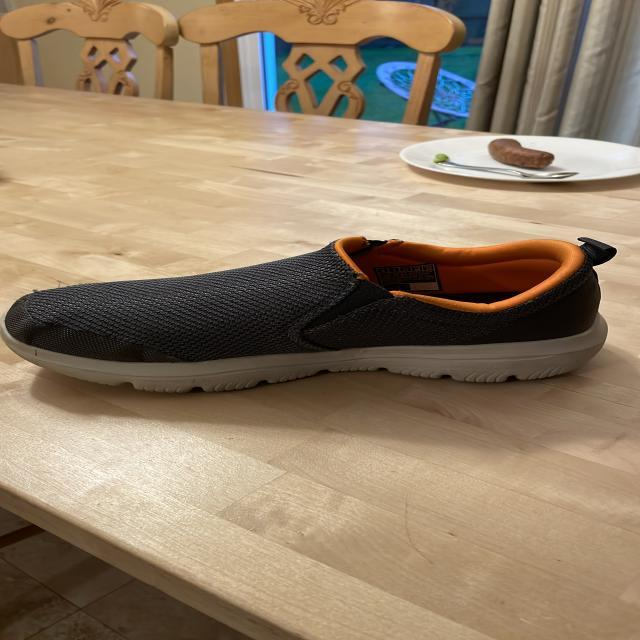shoe: (0, 233, 620, 397)
